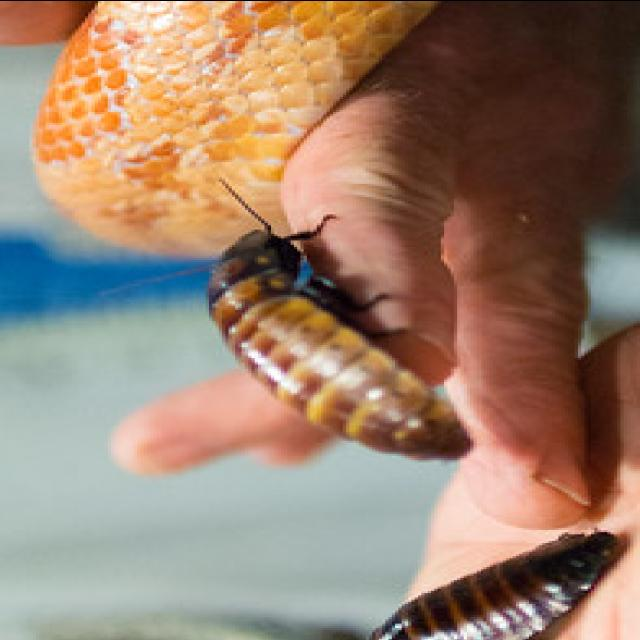Snake: (0, 0, 640, 227)
